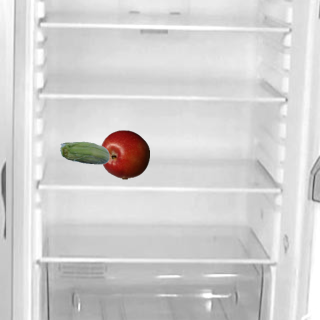Apple Braeburn: (99, 129, 149, 179)
Corn Husk: (59, 129, 109, 179)
